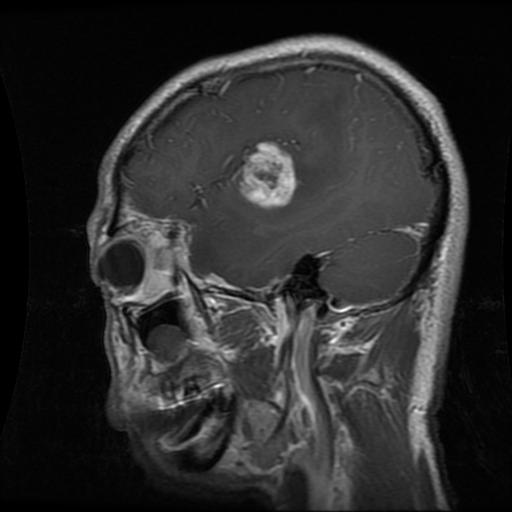Gliomia_tumour: (239, 140, 293, 204)
